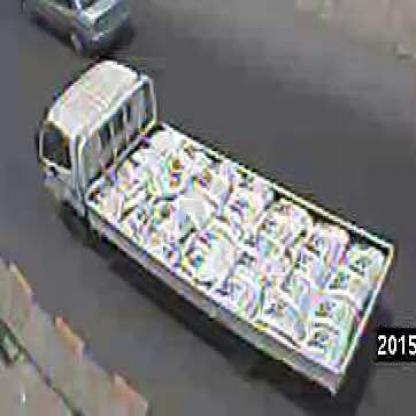truck: (41, 61, 394, 387)
